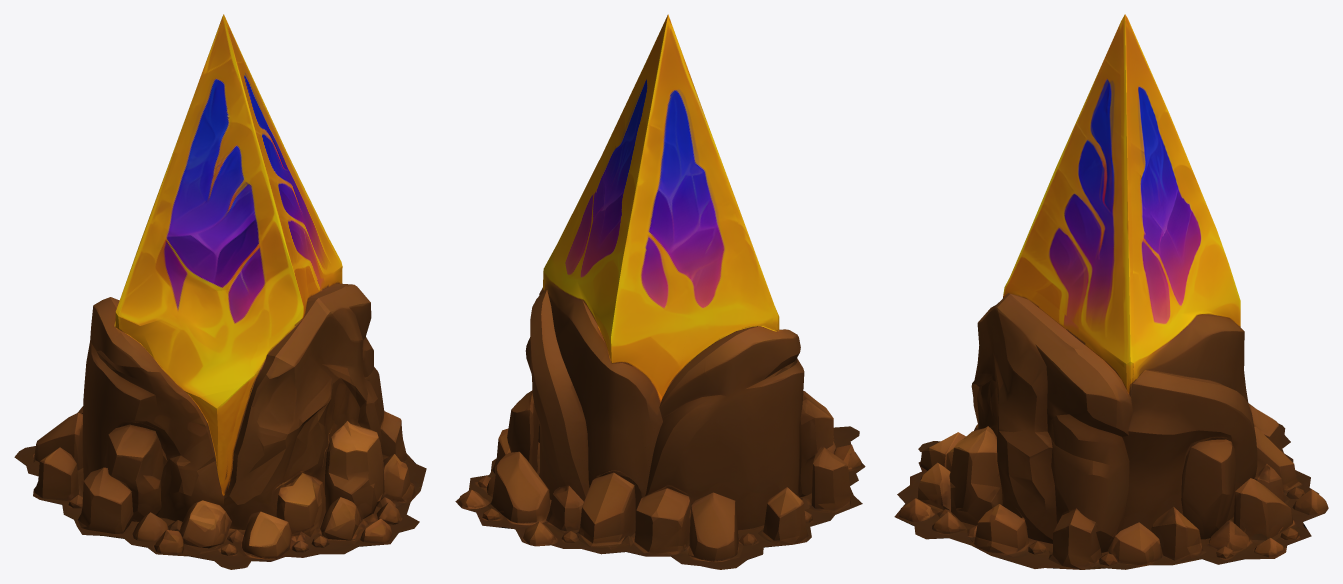
The model's file is SM_Ore33.fbx.
3 renders of one model, left to right at view 1: azimuth 30°, elevation 25°; view 2: azimuth 150°, elevation 25°; view 3: azimuth 270°, elevation 25°, orthographic. The views are drawn at different scales.
Visible parts, largest first — view 1: Ore33; view 2: Ore33; view 3: Ore33.
Part boxes in pixels (x1,y1,x2,y2): Ore33: (14,14,426,569); Ore33: (455,14,865,569); Ore33: (894,14,1328,569).
Bounding box in the file's own units: 90.8 × 122 × 101.
1 material, 1 textured.
